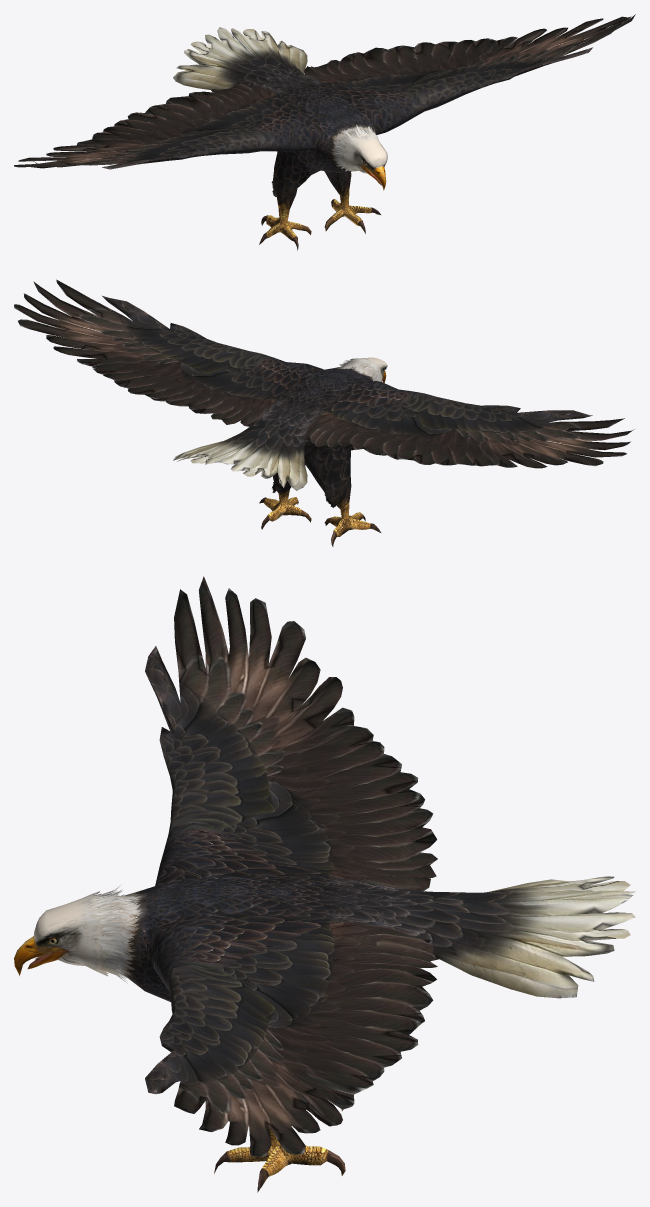
File: Bird_2.obj
The picture shows the model from 3 angles, top to bottom: view 1: azimuth 30°, elevation 25°; view 2: azimuth 150°, elevation 25°; view 3: azimuth 270°, elevation 25°; orthographic projection. The views are drawn at different scales.
Parts seen in each view (by area): view 1: Eagle; view 2: Eagle; view 3: Eagle.
Boxes of the visible parts, x1,y1,x2,y2 form: Eagle: (14,14,635,250); Eagle: (14,279,634,546); Eagle: (14,576,635,1192).
Bounding box in the file's own units: 1.91 × 0.4737 × 0.8982.
1 material, 1 textured.
